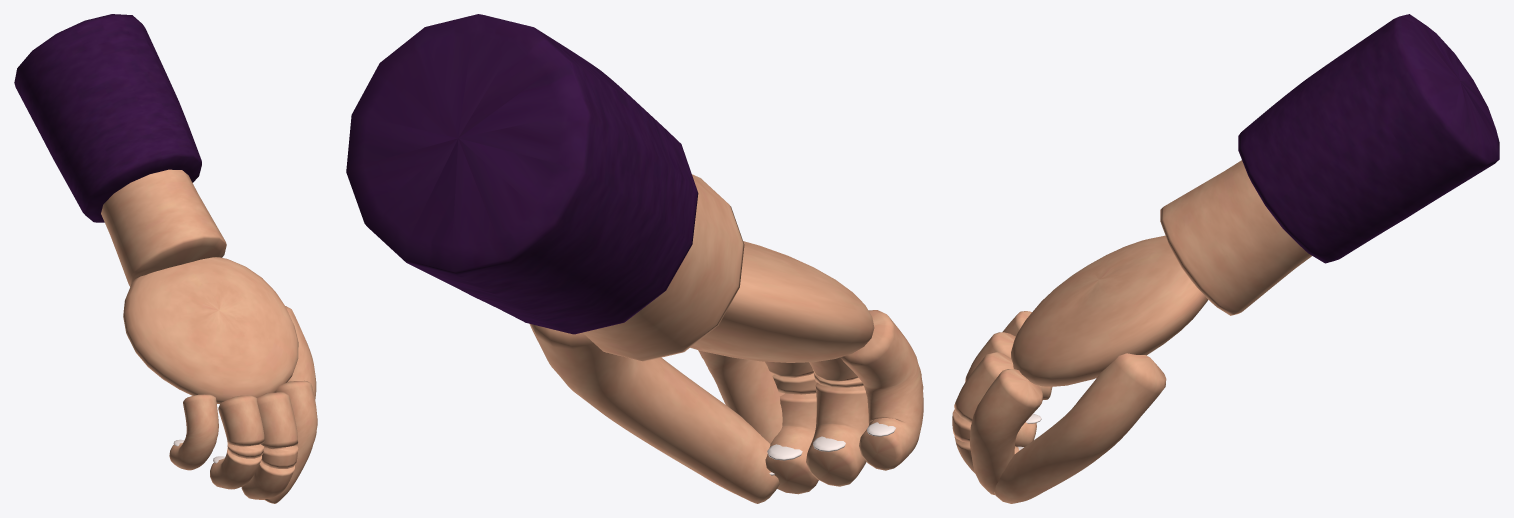
File: _mao.glb
3 renders of one model, left to right at view 1: azimuth 30°, elevation 25°; view 2: azimuth 150°, elevation 25°; view 3: azimuth 270°, elevation 25°, orthographic. The views are drawn at different scales.
Visible parts, largest first — view 1: _mao_0; view 2: _mao_0; view 3: _mao_0.
Boxes of the visible parts, <box> form: _mao_0: <box>14,14,317,503</box>; _mao_0: <box>346,14,923,503</box>; _mao_0: <box>952,14,1499,503</box>.
Bounding box in the file's own units: 0.7637 × 1.61 × 1.71.
3 materials, 2 textured.
